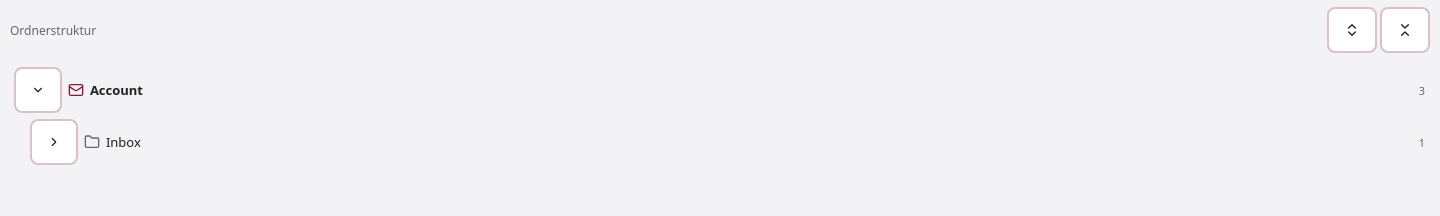
Test case: EmailFolderTree › expands and collapses individually and in bulk without selecting another folder
Click the button named "Inbox aufklappen" at (54, 142), box x1=30 y1=119 x2=78 y2=165
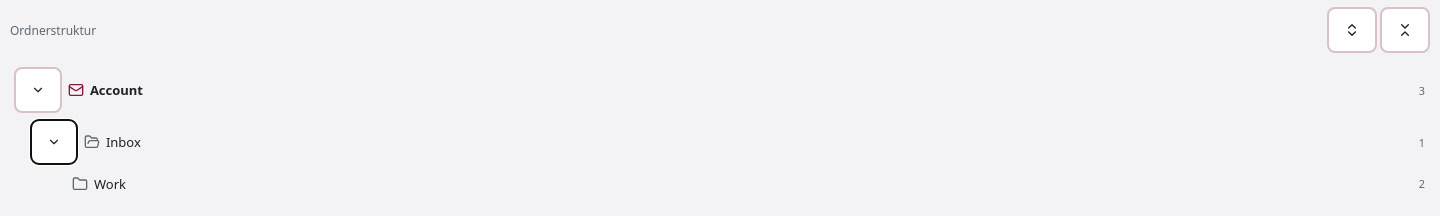
Check: the text "Work" is shown
Click the text "Work" at (110, 184), box x1=94 y1=174 x2=126 y2=192
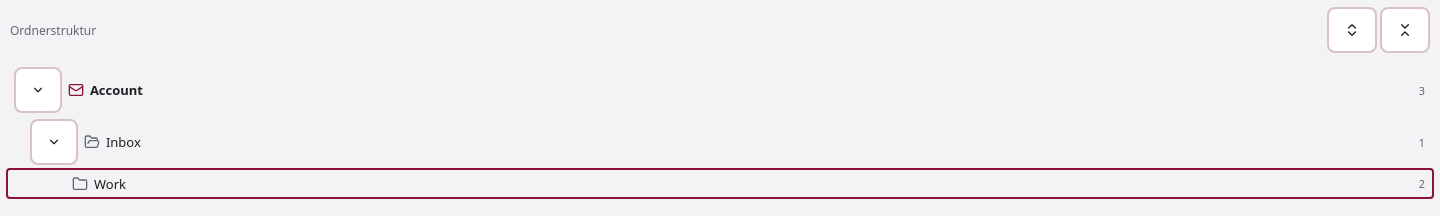
Click the button named "Alle Ordner zuklappen" at (1405, 30), box x1=1380 y1=7 x2=1430 y2=53
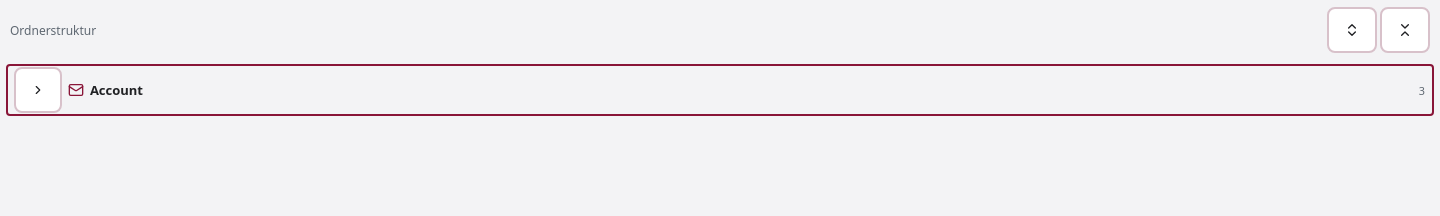
Check: the text "Inbox" is gone
Press Arrowright
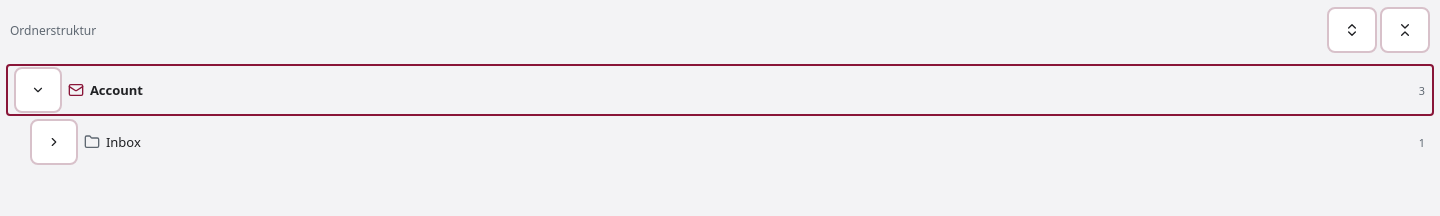
Check: the text "Inbox" is shown, box x1=106 y1=133 x2=141 y2=151
